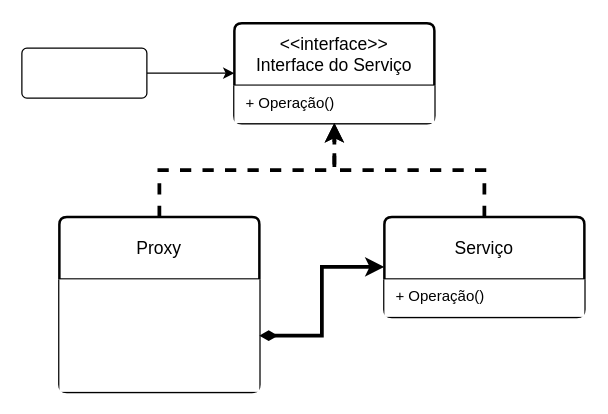
Some shapes in this 608 by 414 pixel diagram are drawn without their labels. The centre of each missing label's shape, as x and y in pixels:
- ServiçoReal: Serviço + Proxy(s: Serviço) + checarAcesso() + Operação(): (x=159, y=335)
Cliente: (x=84, y=72)
